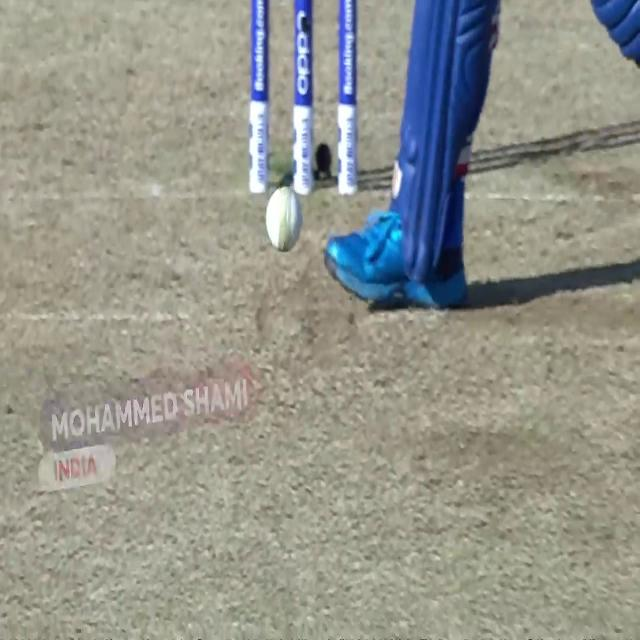ball: (265, 187, 303, 254)
